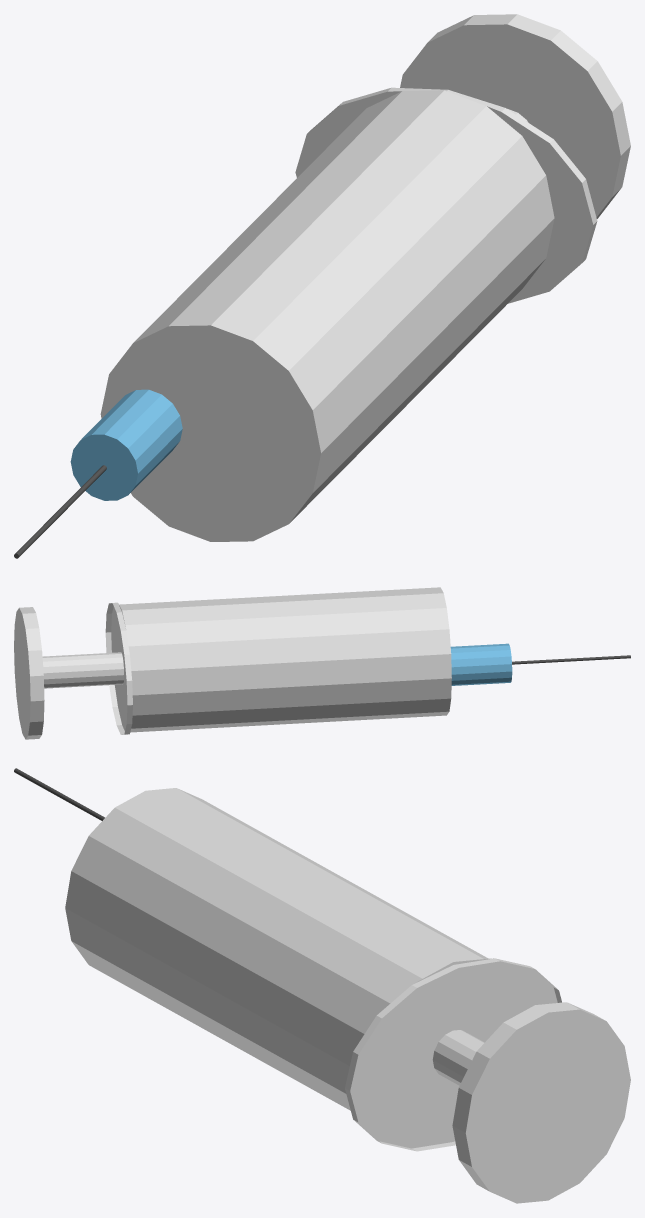
File: Seringa com Remedio.fbx
The picture shows the model from 3 angles, top to bottom: view 1: azimuth 30°, elevation 25°; view 2: azimuth 150°, elevation 25°; view 3: azimuth 270°, elevation 25°; orthographic projection. The views are drawn at different scales.
Visible parts, largest first — view 1: Cylinder, Cylinder.001; view 2: Cylinder, Cylinder.001; view 3: Cylinder, Cylinder.001.
Boxes of the visible parts, x1,y1,x2,y2 form: Cylinder: (14,87,597,558); Cylinder.001: (400,14,630,218); Cylinder: (105,587,630,734); Cylinder.001: (14,607,123,739); Cylinder: (14,768,561,1151); Cylinder.001: (432,1002,630,1203).
Size of the model in its own units: 65.03 by 15.7 by 46.67.
